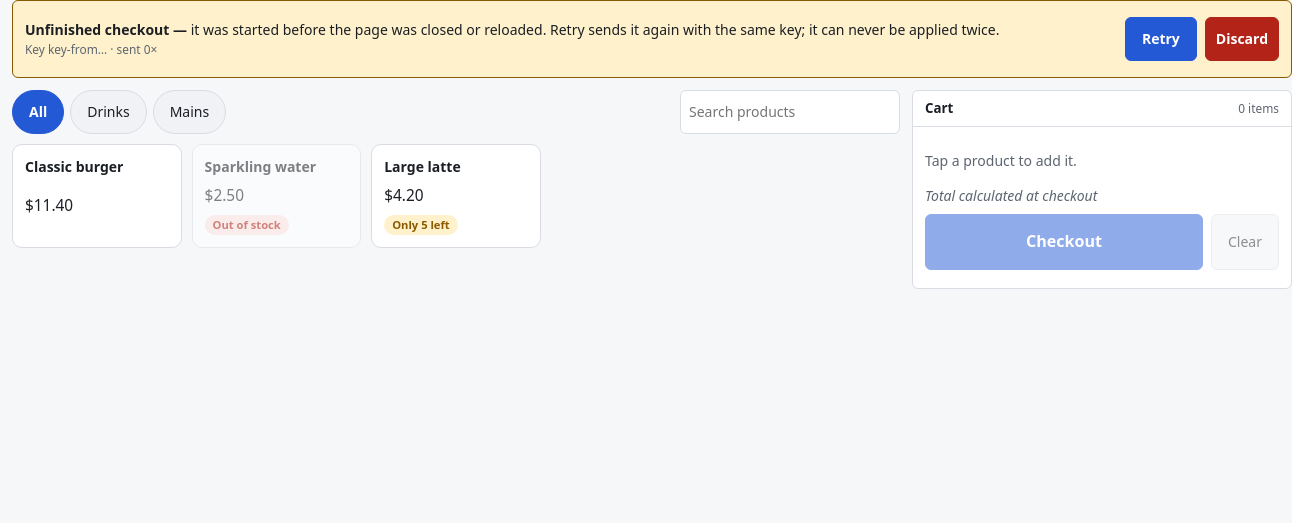
POS › recovers an unfinished checkout after a reload and retries it with the SAME key
Expected: the message with test id "pending-banner" shows "Unfinished checkout", x1=25 y1=20 x2=187 y2=39
Expected: the button "Checkout" is disabled, x1=925 y1=214 x2=1203 y2=270
Click the button "Retry".
click(1161, 39)  # box x1=1125 y1=17 x2=1197 y2=61
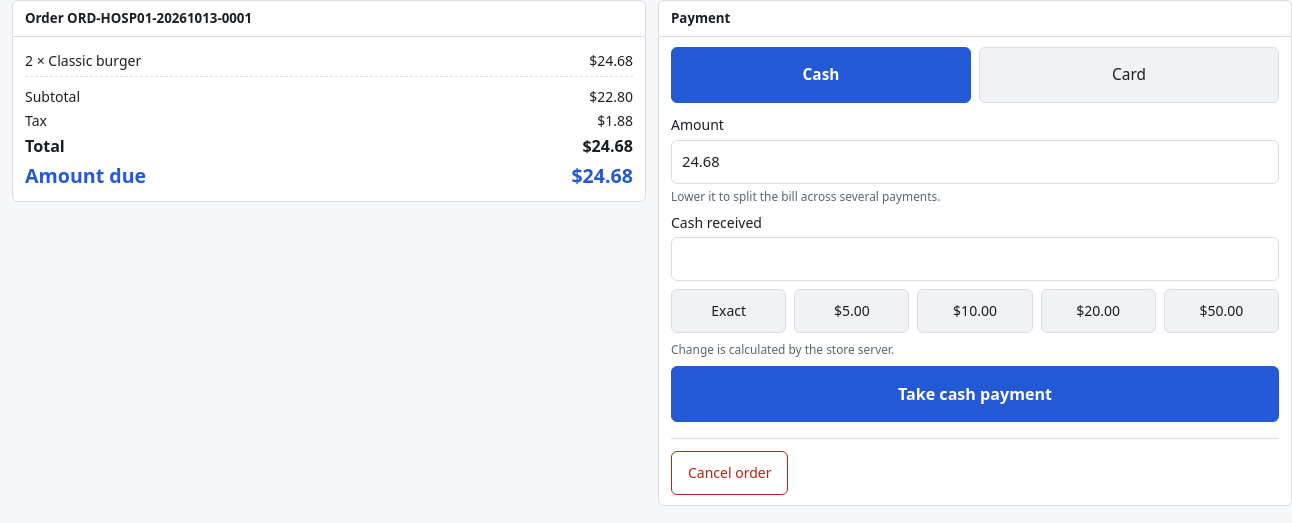
Result: the text with test id "order-total" reads "$24.68" at x1=582 y1=135 x2=633 y2=157
Result: the message with test id "pending-banner" is gone
